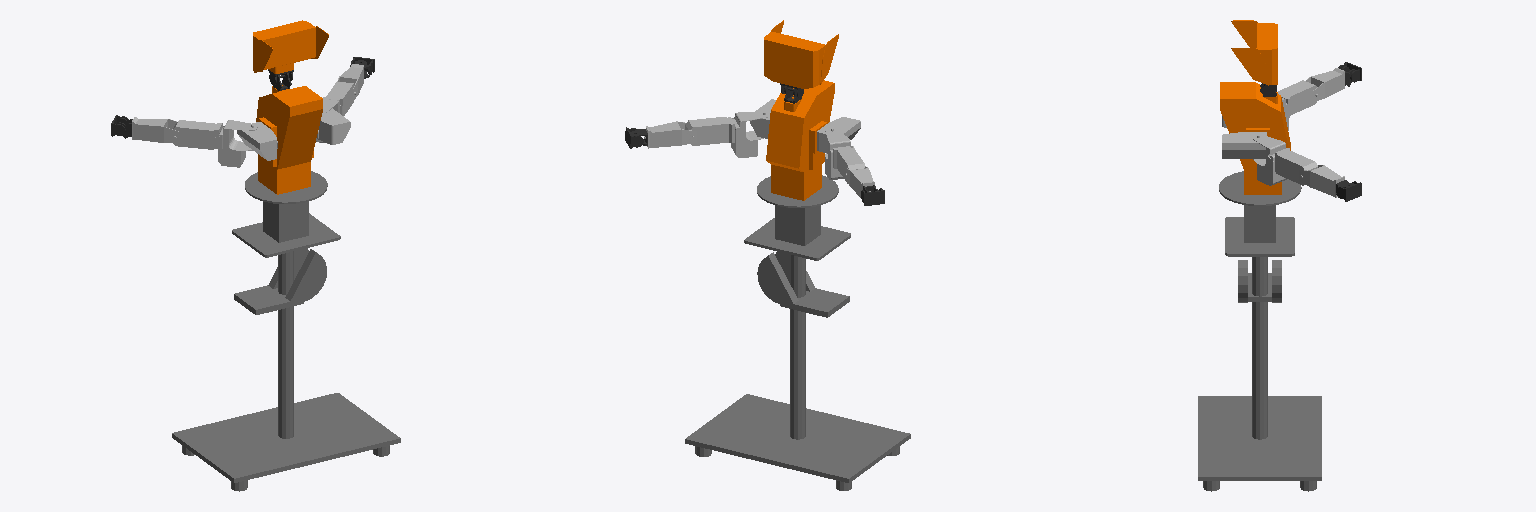
--- What the picture shows (computed from the rendered views, not written in the file) ---
The picture shows the robot from 3 angles, left to right: view 1: azimuth 30°, elevation 25°; view 2: azimuth 150°, elevation 25°; view 3: azimuth 270°, elevation 25°; orthographic projection.
Robot: pumpkin_description — 18 links, 17 joints (14 revolute, 3 fixed); root link map; default pose: all joints at 0.
Visible links, largest first — view 1: map, chest_link, head_link, l_shoulder2_link, l_upperarm_link, l_forearm_link, l_shoulder1_link, r_shoulder1_link; view 2: map, chest_link, head_link, r_upperarm_link, r_forerarm_link, r_shoulder2_link, l_shoulder1_link, l_upperarm_link, l_shoulder2_link; view 3: map, chest_link, head_link, r_shoulder1_link, r_shoulder2_link, r_upperarm_link, r_forerarm_link, l_upperarm_link, l_forearm_link.
Boxes of the visible links, box(x1,y1,x2,y2) form: map: box(172, 171, 400, 491); chest_link: box(256, 85, 322, 194); head_link: box(253, 20, 328, 73); l_shoulder2_link: box(214, 120, 257, 167); l_upperarm_link: box(173, 120, 222, 149); l_forearm_link: box(132, 117, 178, 142); l_shoulder1_link: box(237, 122, 277, 160); r_shoulder1_link: box(317, 108, 350, 144); map: box(685, 175, 910, 490); chest_link: box(766, 80, 834, 200); head_link: box(764, 20, 838, 88); r_upperarm_link: box(685, 117, 734, 145); r_forerarm_link: box(644, 121, 696, 148); r_shoulder2_link: box(731, 111, 769, 157); l_shoulder1_link: box(817, 117, 860, 153); l_upperarm_link: box(833, 146, 865, 183); l_shoulder2_link: box(825, 129, 854, 179); map: box(1198, 171, 1321, 491); chest_link: box(1220, 82, 1290, 194); head_link: box(1231, 20, 1277, 85); r_shoulder1_link: box(1222, 132, 1266, 158); r_shoulder2_link: box(1252, 134, 1286, 185); r_upperarm_link: box(1275, 148, 1317, 185); r_forerarm_link: box(1299, 165, 1344, 197); l_upperarm_link: box(1278, 80, 1317, 117); l_forearm_link: box(1306, 68, 1344, 101).
Bounding box of the posed robot: 1.09 × 0.5937 × 1.67 m (x, y, z).
Meshes: 18 distinct files referenced, 18 mesh visuals loaded (18 binary STL).

robot.urdf — pumpkin_description:
<robot
  name="pumpkin_description">
  <link
    name="map">
    <inertial>
      <origin
        xyz="-0.293555847956034 -0.175 0.45135148693391"
        rpy="0 0 0" />
      <mass
        value="13.9816322818673" />
      <inertia
        ixx="2.31964529303823"
        ixy="-8.70728028355655E-17"
        ixz="0.00968793131939128"
        iyy="2.48778234634525"
        iyz="-1.57639120302397E-16"
        izz="0.424581095909644" />
    </inertial>
    <visual>
      <origin
        xyz="0 0 0"
        rpy="0 0 0" />
      <geometry>
        <mesh
          filename="package://pumpkin_description/meshes/map.STL" />
      </geometry>
      <material
        name="">
        <color
          rgba="0.501960784313725 0.501960784313725 0.501960784313725 1" />
      </material>
    </visual>
    <collision>
      <origin
        xyz="0 0 0"
        rpy="0 0 0" />
      <geometry>
        <mesh
          filename="package://pumpkin_description/meshes/map.STL" />
      </geometry>
    </collision>
  </link>
  <link
    name="base_link">
    <inertial>
      <origin
        xyz="-0.293555847956034 -0.175 0.45135148693391"
        rpy="0 0 0" />
      <mass
        value="13.9816322818673" />
      <inertia
        ixx="2.31964529303823"
        ixy="-8.51674374208791E-17"
        ixz="0.00968793131939129"
        iyy="2.48778234634525"
        iyz="-1.49937743693545E-16"
        izz="0.424581095909643" />
    </inertial>
    <visual>
      <origin
        xyz="0 0 0"
        rpy="0 0 0" />
      <geometry>
        <mesh
          filename="package://pumpkin_description/meshes/base_link.STL" />
      </geometry>
      <material
        name="">
        <color
          rgba="0.501960784313725 0.501960784313725 0.501960784313725 1" />
      </material>
    </visual>
    <collision>
      <origin
        xyz="0 0 0"
        rpy="0 0 0" />
      <geometry>
        <mesh
          filename="package://pumpkin_description/meshes/base_link.STL" />
      </geometry>
    </collision>
  </link>
  <joint
    name="map_base"
    type="fixed">
    <origin
      xyz="0 0 0"
      rpy="0 0 0" />
    <parent
      link="map" />
    <child
      link="base_link" />
    <axis
      xyz="0 0 0" />
  </joint>
  <link
    name="chest_link">
    <inertial>
      <origin
        xyz="0.0699999448923429 0.0861322162969888 0.206442897687805"
        rpy="0 0 0" />
      <mass
        value="10.0220880744242" />
      <inertia
        ixx="0.13958314601398"
        ixy="2.38249560374211E-08"
        ixz="-9.36860086311064E-08"
        iyy="0.126518122761918"
        iyz="0.0202905580274991"
        izz="0.0511916589651957" />
    </inertial>
    <visual>
      <origin
        xyz="0 0 0"
        rpy="0 0 0" />
      <geometry>
        <mesh
          filename="package://pumpkin_description/meshes/chest_link.STL" />
      </geometry>
      <material
        name="">
        <color
          rgba="1 0.501960784313725 0 1" />
      </material>
    </visual>
    <collision>
      <origin
        xyz="0 0 0"
        rpy="0 0 0" />
      <geometry>
        <mesh
          filename="package://pumpkin_description/meshes/chest_link.STL" />
      </geometry>
    </collision>
  </link>
  <joint
    name="base_chest"
    type="fixed">
    <origin
      xyz="-0.225 -0.0975 1.061"
      rpy="0 0 3.14159265358979" />
    <parent
      link="base_link" />
    <child
      link="chest_link" />
    <axis
      xyz="0 0 0" />
  </joint>
  <link
    name="neck1_link">
    <inertial>
      <origin
        xyz="4.16333634234434E-17 0.00114575656464128 0.014277861528285"
        rpy="0 0 0" />
      <mass
        value="0.0415918723991327" />
      <inertia
        ixx="2.29225110556979E-05"
        ixy="-7.38314014077644E-22"
        ixz="-1.86866520351751E-21"
        iyy="2.72093572744309E-05"
        iyz="-8.50993382986086E-07"
        izz="2.09020496178277E-05" />
    </inertial>
    <visual>
      <origin
        xyz="0 0 0"
        rpy="0 0 0" />
      <geometry>
        <mesh
          filename="package://pumpkin_description/meshes/neck1_link.STL" />
      </geometry>
      <material
        name="">
        <color
          rgba="0.250980392156863 0.250980392156863 0.250980392156863 1" />
      </material>
    </visual>
    <collision>
      <origin
        xyz="0 0 0"
        rpy="0 0 0" />
      <geometry>
        <mesh
          filename="package://pumpkin_description/meshes/neck1_link.STL" />
      </geometry>
    </collision>
  </link>
  <joint
    name="neck_0"
    type="revolute">
    <origin
      xyz="0.0692677669529664 0.042992862378663 0.381070081404336"
      rpy="1.85037170770859E-15 0 0" />
    <parent
      link="chest_link" />
    <child
      link="neck1_link" />
    <axis
      xyz="0 0 1" />
    <limit
        effort="30"
        velocity="1.0"
        lower="-2"
        upper="2" />
    <safety_controller
        k_velocity="10"
        k_position="15"
        soft_lower_limit="-1.9"
        soft_upper_limit="1.9" />
  </joint>
  <link
    name="neck2_Link">
    <inertial>
      <origin
        xyz="-0.013186252016847 1.43169092391565E-05 0.0178400000014278"
        rpy="0 0 0" />
      <mass
        value="0.0490431894031824" />
      <inertia
        ixx="4.69979552417377E-05"
        ixy="-3.89953211176071E-09"
        ixz="9.59726222358974E-16"
        iyy="4.87604220320218E-05"
        iyz="-1.02200790939334E-18"
        izz="1.87649639686502E-05" />
    </inertial>
    <visual>
      <origin
        xyz="0 0 0"
        rpy="0 0 0" />
      <geometry>
        <mesh
          filename="package://pumpkin_description/meshes/neck2_Link.STL" />
      </geometry>
      <material
        name="">
        <color
          rgba="0.250980392156863 0.250980392156863 0.250980392156863 1" />
      </material>
    </visual>
    <collision>
      <origin
        xyz="0 0 0"
        rpy="0 0 0" />
      <geometry>
        <mesh
          filename="package://pumpkin_description/meshes/neck2_Link.STL" />
      </geometry>
    </collision>
  </link>
  <joint
    name="neck_1"
    type="revolute">
    <origin
      xyz="-0.018635 -0.00278669492233989 0.0327000000000001"
      rpy="0 1.5707963267949 0" />
    <parent
      link="neck1_link" />
    <child
      link="neck2_Link" />
    <axis
      xyz="0 0 -1" />
    <limit
        effort="30"
        velocity="1.0"
        lower="-2"
        upper="2" />
    <safety_controller
        k_velocity="10"
        k_position="15"
        soft_lower_limit="-1.9"
        soft_upper_limit="1.9" />
  </joint>
  <link
    name="head_link">
    <inertial>
      <origin
        xyz="-0.0111753450945133 0.0886552657573116 -4.22661905474797E-12"
        rpy="0 0 0" />
      <mass
        value="2.45570096722737" />
      <inertia
        ixx="0.0150088472417565"
        ixy="-0.000367696364177254"
        ixz="3.20508846771422E-13"
        iyy="0.0118872043798392"
        iyz="4.53236350169735E-13"
        izz="0.00561472430045807" />
    </inertial>
    <visual>
      <origin
        xyz="0 0 0"
        rpy="0 0 0" />
      <geometry>
        <mesh
          filename="package://pumpkin_description/meshes/head_link.STL" />
      </geometry>
      <material
        name="">
        <color
          rgba="1 0.501960784313725 0 1" />
      </material>
    </visual>
    <collision>
      <origin
        xyz="0 0 0"
        rpy="0 0 0" />
      <geometry>
        <mesh
          filename="package://pumpkin_description/meshes/head_link.STL" />
      </geometry>
    </collision>
  </link>
  <joint
    name="neck2_head"
    type="fixed">
    <origin
      xyz="-0.0282400000000006 0 0.0178399999999754"
      rpy="3.14159265358979 2.6791096154082E-16 -1.5707963267949" />
    <parent
      link="neck2_Link" />
    <child
      link="head_link" />
    <axis
      xyz="0 0 0" />
  </joint>
  <link
    name="r_shoulder1_link">
    <inertial>
      <origin
        xyz="-0.0448677861640264 0.00293576780963045 0.0348025086156695"
        rpy="0 0 0" />
      <mass
        value="0.997303293307219" />
      <inertia
        ixx="0.00107273488038204"
        ixy="-8.11530022143454E-06"
        ixz="-0.000106340673464381"
        iyy="0.00270697972935808"
        iyz="0.000110876688565299"
        izz="0.00258150868839317" />
    </inertial>
    <visual>
      <origin
        xyz="0 0 0"
        rpy="0 0 0" />
      <geometry>
        <mesh
          filename="package://pumpkin_description/meshes/r_shoulder1_link.STL" />
      </geometry>
      <material
        name="">
        <color
          rgba="0.752941176470588 0.752941176470588 0.752941176470588 1" />
      </material>
    </visual>
    <collision>
      <origin
        xyz="0 0 0"
        rpy="0 0 0" />
      <geometry>
        <mesh
          filename="package://pumpkin_description/meshes/r_shoulder1_link.STL" />
      </geometry>
    </collision>
  </link>
  <joint
    name="r_shoulder_0"
    type="revolute">
    <origin
      xyz="-0.033 0.085 0.224320081404336"
      rpy="1.5707963267949 0 -1.5707963267949" />
    <parent
      link="chest_link" />
    <child
      link="r_shoulder1_link" />
    <axis
      xyz="0 0 1" />
    <limit
        effort="30"
        velocity="1.0"
        lower="-2"
        upper="2" />
    <safety_controller
        k_velocity="10"
        k_position="15"
        soft_lower_limit="-1.9"
        soft_upper_limit="1.9" />
  </joint>
  <link
    name="r_shoulder2_link">
    <inertial>
      <origin
        xyz="0.0818108751825954 0.000268250221157729 0.0968293123319839"
        rpy="0 0 0" />
      <mass
        value="0.672221677129179" />
      <inertia
        ixx="0.0013811976922621"
        ixy="5.22942613640301E-06"
        ixz="-0.000156786157007318"
        iyy="0.0014318894742788"
        iyz="-7.15872684594063E-06"
        izz="0.00075297371810005" />
    </inertial>
    <visual>
      <origin
        xyz="0 0 0"
        rpy="0 0 0" />
      <geometry>
        <mesh
          filename="package://pumpkin_description/meshes/r_shoulder2_link.STL" />
      </geometry>
      <material
        name="">
        <color
          rgba="0.752941176470588 0.752941176470588 0.752941176470588 1" />
      </material>
    </visual>
    <collision>
      <origin
        xyz="0 0 0"
        rpy="0 0 0" />
      <geometry>
        <mesh
          filename="package://pumpkin_description/meshes/r_shoulder2_link.STL" />
      </geometry>
    </collision>
  </link>
  <joint
    name="r_shoulder_1"
    type="revolute">
    <origin
      xyz="0.00189312225294823 0.04856 0.03917"
      rpy="1.5707963267949 -0.809952695179625 1.83845377778929E-15" />
    <parent
      link="r_shoulder1_link" />
    <child
      link="r_shoulder2_link" />
    <axis
      xyz="0 0 1" />
    <limit
        effort="30"
        velocity="1.0"
        lower="-2"
        upper="2" />
    <safety_controller
        k_velocity="10"
        k_position="15"
        soft_lower_limit="-1.9"
        soft_upper_limit="1.9" />
  </joint>
  <link
    name="r_upperarm_link">
    <inertial>
      <origin
        xyz="-0.00793665156246126 1.11022302462516E-16 0.073948800226588"
        rpy="0 0 0" />
      <mass
        value="0.802460503767575" />
      <inertia
        ixx="0.00226084580510553"
        ixy="-7.10544790752207E-20"
        ixz="-5.70402466352589E-05"
        iyy="0.00216004005879803"
        iyz="6.0216063547476E-19"
        izz="0.000651209315492011" />
    </inertial>
    <visual>
      <origin
        xyz="0 0 0"
        rpy="0 0 0" />
      <geometry>
        <mesh
          filename="package://pumpkin_description/meshes/r_upperarm_link.STL" />
      </geometry>
      <material
        name="">
        <color
          rgba="0.752941176470588 0.752941176470588 0.752941176470588 1" />
      </material>
    </visual>
    <collision>
      <origin
        xyz="0 0 0"
        rpy="0 0 0" />
      <geometry>
        <mesh
          filename="package://pumpkin_description/meshes/r_upperarm_link.STL" />
      </geometry>
    </collision>
  </link>
  <joint
    name="r_shoulder_2"
    type="revolute">
    <origin
      xyz="0.128657742492825 0 0.0575"
      rpy="-1.5707963267949 6.96956074407882E-18 -1.5707963267949" />
    <parent
      link="r_shoulder2_link" />
    <child
      link="r_upperarm_link" />
    <axis
      xyz="0 0 1" />
    <limit
        effort="30"
        velocity="1.0"
        lower="-2"
        upper="2" />
    <safety_controller
        k_velocity="10"
        k_position="15"
        soft_lower_limit="-1.9"
        soft_upper_limit="1.9" />
  </joint>
  <link
    name="r_forerarm_link">
    <inertial>
      <origin
        xyz="0.00132014399398794 -0.0960229772352361 0.0415800059930865"
        rpy="0 0 0" />
      <mass
        value="0.460253382032486" />
      <inertia
        ixx="0.000803687403707026"
        ixy="2.10966412412125E-05"
        ixz="-3.56773325528554E-12"
        iyy="0.000304132885962192"
        iyz="2.44011738630623E-10"
        izz="0.000809091293261309" />
    </inertial>
    <visual>
      <origin
        xyz="0 0 0"
        rpy="0 0 0" />
      <geometry>
        <mesh
          filename="package://pumpkin_description/meshes/r_forerarm_link.STL" />
      </geometry>
      <material
        name="">
        <color
          rgba="0.752941176470588 0.752941176470588 0.752941176470588 1" />
      </material>
    </visual>
    <collision>
      <origin
        xyz="0 0 0"
        rpy="0 0 0" />
      <geometry>
        <mesh
          filename="package://pumpkin_description/meshes/r_forerarm_link.STL" />
      </geometry>
    </collision>
  </link>
  <joint
    name="r_elbow"
    type="revolute">
    <origin
      xyz="0.0326850317231399 0 0.14623"
      rpy="-1.5707963267949 2.34534436753233E-16 1.5707963267949" />
    <parent
      link="r_upperarm_link" />
    <child
      link="r_forerarm_link" />
    <axis
      xyz="0 0 -1" />
    <limit
        effort="30"
        velocity="1.0"
        lower="-2"
        upper="2" />
    <safety_controller
        k_velocity="10"
        k_position="15"
        soft_lower_limit="-1.9"
        soft_upper_limit="1.9" />
  </joint>
  <link
    name="r_wrist0_link">
    <inertial>
      <origin
        xyz="-0.00114575656464144 2.77555756156289E-17 0.014277861528285"
        rpy="0 0 0" />
      <mass
        value="0.0415918723991328" />
      <inertia
        ixx="2.7209357274431E-05"
        ixy="5.33776430621024E-21"
        ixz="8.50993382986092E-07"
        iyy="2.29225110556979E-05"
        iyz="3.3881317890172E-21"
        izz="2.09020496178277E-05" />
    </inertial>
    <visual>
      <origin
        xyz="0 0 0"
        rpy="0 0 0" />
      <geometry>
        <mesh
          filename="package://pumpkin_description/meshes/r_wrist0_link.STL" />
      </geometry>
      <material
        name="">
        <color
          rgba="0.250980392156863 0.250980392156863 0.250980392156863 1" />
      </material>
    </visual>
    <collision>
      <origin
        xyz="0 0 0"
        rpy="0 0 0" />
      <geometry>
        <mesh
          filename="package://pumpkin_description/meshes/r_wrist0_link.STL" />
      </geometry>
    </collision>
  </link>
  <joint
    name="r_wrist_0"
    type="revolute">
    <origin
      xyz="0.00159535499161634 -0.174360874635292 0.0415800000000001"
      rpy="1.5707963267949 -1.28225840869416E-16 2.70187914736707E-17" />
    <parent
      link="r_forerarm_link" />
    <child
      link="r_wrist0_link" />
    <axis
      xyz="0 0 1" />
    <limit
        effort="30"
        velocity="1.0"
        lower="-2"
        upper="2" />
    <safety_controller
        k_velocity="10"
        k_position="15"
        soft_lower_limit="-1.9"
        soft_upper_limit="1.9" />
  </joint>
  <link
    name="r_wrist1_link">
    <inertial>
      <origin
        xyz="0.000486980407275461 0.0131772644091038 0.0178399999712443"
        rpy="0 0 0" />
      <mass
        value="0.0490431894031785" />
      <inertia
        ixx="4.87572852294541E-05"
        ixy="6.70260674295866E-08"
        ixz="4.11216308654706E-16"
        iyy="4.69999064163923E-05"
        iyz="2.10368611500969E-14"
        izz="1.87649640412587E-05" />
    </inertial>
    <visual>
      <origin
        xyz="0 0 0"
        rpy="0 0 0" />
      <geometry>
        <mesh
          filename="package://pumpkin_description/meshes/r_wrist1_link.STL" />
      </geometry>
      <material
        name="">
        <color
          rgba="0.250980392156863 0.250980392156863 0.250980392156863 1" />
      </material>
    </visual>
    <collision>
      <origin
        xyz="0 0 0"
        rpy="0 0 0" />
      <geometry>
        <mesh
          filename="package://pumpkin_description/meshes/r_wrist1_link.STL" />
      </geometry>
    </collision>
  </link>
  <joint
    name="r_wrist_1"
    type="revolute">
    <origin
      xyz="0.00278669492233996 0.0186349999999999 0.0327"
      rpy="1.5707963267949 -5.41724245269373E-16 1.4587432664842E-16" />
    <parent
      link="r_wrist0_link" />
    <child
      link="r_wrist1_link" />
    <axis
      xyz="0 0 -1" />
    <limit
        effort="30"
        velocity="1.0"
        lower="-2"
        upper="2" />
    <safety_controller
        k_velocity="10"
        k_position="15"
        soft_lower_limit="-1.9"
        soft_upper_limit="1.9" />
  </joint>
  <link
    name="l_shoulder1_link">
    <inertial>
      <origin
        xyz="0.0448677861640269 0.00293576780963067 0.0348025086156694"
        rpy="0 0 0" />
      <mass
        value="0.997303293307218" />
      <inertia
        ixx="0.00107273488038204"
        ixy="8.11530022143538E-06"
        ixz="0.000106340673464381"
        iyy="0.00270697972935808"
        iyz="0.000110876688565299"
        izz="0.00258150868839317" />
    </inertial>
    <visual>
      <origin
        xyz="0 0 0"
        rpy="0 0 0" />
      <geometry>
        <mesh
          filename="package://pumpkin_description/meshes/l_shoulder1_link.STL" />
      </geometry>
      <material
        name="">
        <color
          rgba="0.752941176470588 0.752941176470588 0.752941176470588 1" />
      </material>
    </visual>
    <collision>
      <origin
        xyz="0 0 0"
        rpy="0 0 0" />
      <geometry>
        <mesh
          filename="package://pumpkin_description/meshes/l_shoulder1_link.STL" />
      </geometry>
    </collision>
  </link>
  <joint
    name="l_shoulder_0"
    type="revolute">
    <origin
      xyz="0.173 0.085 0.224320081404336"
      rpy="1.5707963267949 0 1.5707963267949" />
    <parent
      link="chest_link" />
    <child
      link="l_shoulder1_link" />
    <axis
      xyz="0 0 1" />
    <limit
        effort="30"
        velocity="1.0"
        lower="-2"
        upper="2" />
    <safety_controller
        k_velocity="10"
        k_position="15"
        soft_lower_limit="-1.9"
        soft_upper_limit="1.9" />
  </joint>
  <link
    name="l_shoulder2_link">
    <inertial>
      <origin
        xyz="-0.0594978051549702 -0.0561524924563586 0.0968293133210926"
        rpy="0 0 0" />
      <mass
        value="0.672221657665173" />
      <inertia
        ixx="0.00140002186570999"
        ixy="2.50445551073079E-05"
        ixz="0.000118600806553884"
        iyy="0.00141306521082711"
        iyz="0.000102795881372251"
        izz="0.000752973680339134" />
    </inertial>
    <visual>
      <origin
        xyz="0 0 0"
        rpy="0 0 0" />
      <geometry>
        <mesh
          filename="package://pumpkin_description/meshes/l_shoulder2_link.STL" />
      </geometry>
      <material
        name="">
        <color
          rgba="0.752941176470588 0.752941176470588 0.752941176470588 1" />
      </material>
    </visual>
    <collision>
      <origin
        xyz="0 0 0"
        rpy="0 0 0" />
      <geometry>
        <mesh
          filename="package://pumpkin_description/meshes/l_shoulder2_link.STL" />
      </geometry>
    </collision>
  </link>
  <joint
    name="l_shoulder_1"
    type="revolute">
    <origin
      xyz="-0.00189312225294776 0.0485600000000002 0.03917"
      rpy="1.5707963267949 1.5707963267949 0" />
    <parent
      link="l_shoulder1_link" />
    <child
      link="l_shoulder2_link" />
    <axis
      xyz="0 0 1" />
    <limit
        effort="30"
        velocity="1.0"
        lower="-2"
        upper="2" />
    <safety_controller
        k_velocity="10"
        k_position="15"
        soft_lower_limit="-1.9"
        soft_upper_limit="1.9" />
  </joint>
  <link
    name="l_upperarm_link">
    <inertial>
      <origin
        xyz="0.00793665156246123 1.11022302462516E-16 0.0739488002265878"
        rpy="0 0 0" />
      <mass
        value="0.802460503767576" />
      <inertia
        ixx="0.00226084580510553"
        ixy="-6.69212500264069E-20"
        ixz="5.70402466352595E-05"
        iyy="0.00216004005879804"
        iyz="-1.68613240946463E-19"
        izz="0.000651209315492011" />
    </inertial>
    <visual>
      <origin
        xyz="0 0 0"
        rpy="0 0 0" />
      <geometry>
        <mesh
          filename="package://pumpkin_description/meshes/l_upperarm_link.STL" />
      </geometry>
      <material
        name="">
        <color
          rgba="0.752941176470588 0.752941176470588 0.752941176470588 1" />
      </material>
    </visual>
    <collision>
      <origin
        xyz="0 0 0"
        rpy="0 0 0" />
      <geometry>
        <mesh
          filename="package://pumpkin_description/meshes/l_upperarm_link.STL" />
      </geometry>
    </collision>
  </link>
  <joint
    name="l_shoulder_2"
    type="revolute">
    <origin
      xyz="-0.0932771230454184 -0.0886126007953723 0.0575000000000001"
      rpy="-1.5707963267949 -1.9127232359829E-16 2.33055532814212" />
    <parent
      link="l_shoulder2_link" />
    <child
      link="l_upperarm_link" />
    <axis
      xyz="0 0 1" />
    <limit
        effort="30"
        velocity="1.0"
        lower="-2"
        upper="2" />
    <safety_controller
        k_velocity="10"
        k_position="15"
        soft_lower_limit="-1.9"
        soft_upper_limit="1.9" />
  </joint>
  <link
    name="l_forearm_link">
    <inertial>
      <origin
        xyz="-0.0960229772352947 0.00132014399399338 0.0415399939626937"
        rpy="0 0 0" />
      <mass
        value="0.460253382032638" />
      <inertia
        ixx="0.000304132885238785"
        ixy="2.10966406971721E-05"
        ixz="-2.45986607805607E-10"
        iyy="0.000803687402978468"
        iyz="1.67328629230202E-12"
        izz="0.000809091293256747" />
    </inertial>
    <visual>
      <origin
        xyz="0 0 0"
        rpy="0 0 0" />
      <geometry>
        <mesh
          filename="package://pumpkin_description/meshes/l_forearm_link.STL" />
      </geometry>
      <material
        name="">
        <color
          rgba="0.752941176470588 0.752941176470588 0.752941176470588 1" />
      </material>
    </visual>
    <collision>
      <origin
        xyz="0 0 0"
        rpy="0 0 0" />
      <geometry>
        <mesh
          filename="package://pumpkin_description/meshes/l_forearm_link.STL" />
      </geometry>
    </collision>
  </link>
  <joint
    name="l_elbow"
    type="revolute">
    <origin
      xyz="-0.03268503172314 0 0.14623"
      rpy="0 1.5707963267949 0" />
    <parent
      link="l_upperarm_link" />
    <child
      link="l_forearm_link" />
    <axis
      xyz="0 0 -1" />
    <limit
        effort="30"
        velocity="1.0"
        lower="-2"
        upper="2" />
    <safety_controller
        k_velocity="10"
        k_position="15"
        soft_lower_limit="-1.9"
        soft_upper_limit="1.9" />
  </joint>
  <link
    name="l_wrist0_link">
    <inertial>
      <origin
        xyz="-1.66533453693773E-16 0.00114575656464144 0.0142778615282853"
        rpy="0 0 0" />
      <mass
        value="0.0415918723991329" />
      <inertia
        ixx="2.2922511055698E-05"
        ixy="-1.10023499598393E-20"
        ixz="-2.71050543121376E-20"
        iyy="2.72093572744311E-05"
        iyz="-8.50993382986109E-07"
        izz="2.09020496178278E-05" />
    </inertial>
    <visual>
      <origin
        xyz="0 0 0"
        rpy="0 0 0" />
      <geometry>
        <mesh
          filename="package://pumpkin_description/meshes/l_wrist0_link.STL" />
      </geometry>
      <material
        name="">
        <color
          rgba="0.250980392156863 0.250980392156863 0.250980392156863 1" />
      </material>
    </visual>
    <collision>
      <origin
        xyz="0 0 0"
        rpy="0 0 0" />
      <geometry>
        <mesh
          filename="package://pumpkin_description/meshes/l_wrist0_link.STL" />
      </geometry>
    </collision>
  </link>
  <joint
    name="l_wrist_0"
    type="revolute">
    <origin
      xyz="-0.174360874635291 0.00159535499161623 0.0415400000000001"
      rpy="3.14159265358979 1.5707963267949 0" />
    <parent
      link="l_forearm_link" />
    <child
      link="l_wrist0_link" />
    <axis
      xyz="0 0 1" />
    <limit
        effort="30"
        velocity="1.0"
        lower="-2"
        upper="2" />
    <safety_controller
        k_velocity="10"
        k_position="15"
        soft_lower_limit="-1.9"
        soft_upper_limit="1.9" />
  </joint>
  <link
    name="l_wrist1_link">
    <inertial>
      <origin
        xyz="1.43169092653439E-05 0.013186252016855 -0.0178400000132606"
        rpy="0 0 0" />
      <mass
        value="0.0490431894031785" />
      <inertia
        ixx="4.8760280847194E-05"
        ixy="3.89953211178794E-09"
        ixz="9.33948291586613E-18"
        iyy="4.69978140947975E-05"
        iyz="3.42796690149362E-15"
        izz="1.87649639307625E-05" />
    </inertial>
    <visual>
      <origin
        xyz="0 0 0"
        rpy="0 0 0" />
      <geometry>
        <mesh
          filename="package://pumpkin_description/meshes/l_wrist1_link.STL" />
      </geometry>
      <material
        name="">
        <color
          rgba="0.250980392156863 0.250980392156863 0.250980392156863 1" />
      </material>
    </visual>
    <collision>
      <origin
        xyz="0 0 0"
        rpy="0 0 0" />
      <geometry>
        <mesh
          filename="package://pumpkin_description/meshes/l_wrist1_link.STL" />
      </geometry>
    </collision>
  </link>
  <joint
    name="l_wrist_1"
    type="revolute">
    <origin
      xyz="-0.0186350000000002 -0.00278669492233996 0.0327000000000002"
      rpy="1.5707963267949 -2.60208521396521E-16 -1.5707963267949" />
    <parent
      link="l_wrist0_link" />
    <child
      link="l_wrist1_link" />
    <axis
      xyz="0 0 1" />
    <limit
        effort="30"
        velocity="1.0"
        lower="-2"
        upper="2" />
    <safety_controller
        k_velocity="10"
        k_position="15"
        soft_lower_limit="-1.9"
        soft_upper_limit="1.9" />
  </joint>
</robot>
